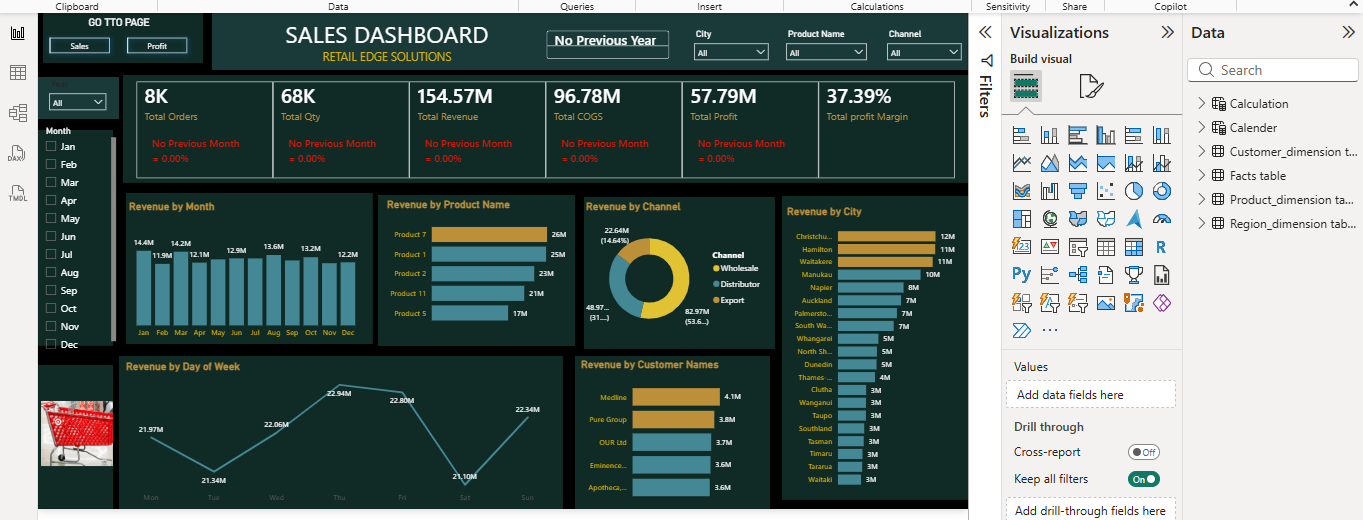

What the dashboard file says about the page in this screenshot:
{"tool":"powerbi","page":{"name":"Sales","canvas":[1500,800],"ordinal":0},"visuals":[{"type":"shape","box":[0,103.2,130.6,67.7],"z":1000},{"type":"shape","box":[0,188.7,121,348.4],"z":2000},{"type":"shape","box":[130.6,553.2,716.1,246.8],"z":3000},{"type":"shape","box":[866.1,553.2,314.5,246.8],"z":4000},{"type":"shape","box":[1200,295.2,300,490.3],"z":5000},{"type":"shape","box":[880.6,296.8,308.1,245.2],"z":6000},{"type":"shape","box":[548.4,293.5,317.7,243.5],"z":7000},{"type":"shape","box":[141.9,290.3,398.4,243.5],"z":8000},{"type":"shape","box":[137.1,100,1362.9,174.2],"z":9000},{"type":"shape","box":[280.6,0,1219.4,91.9],"z":10000},{"type":"shape","box":[8.1,0,258.1,80.6],"z":11000},{"type":"clusteredColumnChart","fields":{"Y":["Calculation.Revenue"],"Category":["Calender.Month"]},"box":[141.9,301.6,387.1,232.3],"z":12000},{"type":"clusteredBarChart","fields":{"Y":["Calculation.Revenue"],"Category":["Product_dimension table.Product Name"]},"box":[558.1,298.4,300,216.1],"z":13000},{"type":"donutChart","fields":{"Y":["Calculation.Revenue"],"Category":["Facts table.Channel"]},"box":[879,301.6,300,232.3],"z":14000},{"type":"clusteredBarChart","fields":{"Y":["Calculation.Revenue"],"Category":["Region_dimension table (3).City"]},"box":[1203.2,309.7,296.8,464.5],"z":15000},{"type":"lineChart","fields":{"Category":["Calender.Day of Week"],"Y":["Calculation.Revenue"]},"box":[137.1,559.7,698.4,240.3],"z":16000},{"type":"clusteredBarChart","fields":{"Y":["Calculation.Revenue"],"Category":["Customer_dimension table (2).Customer Names"]},"box":[871,556.5,300,243.5],"z":17000},{"type":"slicer","fields":{"Values":["Calender.Month"]},"box":[0,177.4,130.6,369.4],"z":18000},{"type":"slicer","fields":{"Values":["Calender.Year"]},"box":[7.9,102.4,112.2,68.9],"z":19000},{"type":"slicer","fields":{"Values":["Region_dimension table (3).City"]},"box":[1048.4,21,140.3,79],"z":20000},{"type":"slicer","fields":{"Values":["Product_dimension table.Product Name"]},"box":[1196.8,21,150,80.6],"z":21000},{"type":"slicer","fields":{"Values":["Facts table.Channel"]},"box":[1359.7,21,140.3,80.6],"z":22000},{"type":"textbox","box":[341.9,3.2,441.9,88.7],"z":23000},{"type":"pageNavigator","title":"GO TTO PAGE","box":[9.7,4.8,241.9,69.4],"z":24000},{"type":"cardVisual","fields":{"Data":["Calculation.Total Order","Calculation.Quantity Order","Calculation.Revenue","Calculation.COGS","Calculation.Profit","Calculation.Profit Margin"]},"box":[141.9,93.5,1358.1,190.3],"z":25000},{"type":"cardVisual","fields":{"Data":["Calculation.Ref_PreviousYear_Revenue"]},"box":[803.2,11.3,232.3,80.6],"z":26000},{"type":"shape","box":[0,567.7,121,232.3],"z":27000},{"type":"image","box":[4.8,567.7,116.1,221],"z":28000}]}

Visuals, with their boxes on the page's 1500x800 design canvas (x1, y1, x2, y2). These are canvas units, not pixel positions in the 1363x520 screenshot, which may show the page scaled, cropped or inside an application window:
shape: <box>0,103,131,171</box>
shape: <box>0,189,121,537</box>
shape: <box>131,553,847,800</box>
shape: <box>866,553,1181,800</box>
shape: <box>1200,295,1500,786</box>
shape: <box>881,297,1189,542</box>
shape: <box>548,294,866,537</box>
shape: <box>142,290,540,534</box>
shape: <box>137,100,1500,274</box>
shape: <box>281,0,1500,92</box>
shape: <box>8,0,266,81</box>
clusteredColumnChart - Calculation.Revenue x Calender.Month: <box>142,302,529,534</box>
clusteredBarChart - Calculation.Revenue x Product_dimension table.Product Name: <box>558,298,858,514</box>
donutChart - Calculation.Revenue x Facts table.Channel: <box>879,302,1179,534</box>
clusteredBarChart - Calculation.Revenue x Region_dimension table (3).City: <box>1203,310,1500,774</box>
lineChart - Calender.Day of Week x Calculation.Revenue: <box>137,560,836,800</box>
clusteredBarChart - Calculation.Revenue x Customer_dimension table (2).Customer Names: <box>871,556,1171,800</box>
slicer - Calender.Month: <box>0,177,131,547</box>
slicer - Calender.Year: <box>8,102,120,171</box>
slicer - Region_dimension table (3).City: <box>1048,21,1189,100</box>
slicer - Product_dimension table.Product Name: <box>1197,21,1347,102</box>
slicer - Facts table.Channel: <box>1360,21,1500,102</box>
textbox: <box>342,3,784,92</box>
"GO TTO PAGE" pageNavigator: <box>10,5,252,74</box>
cardVisual - Calculation.Total Order x Calculation.Quantity Order: <box>142,94,1500,284</box>
cardVisual - Calculation.Ref_PreviousYear_Revenue: <box>803,11,1036,92</box>
shape: <box>0,568,121,800</box>
image: <box>5,568,121,789</box>
